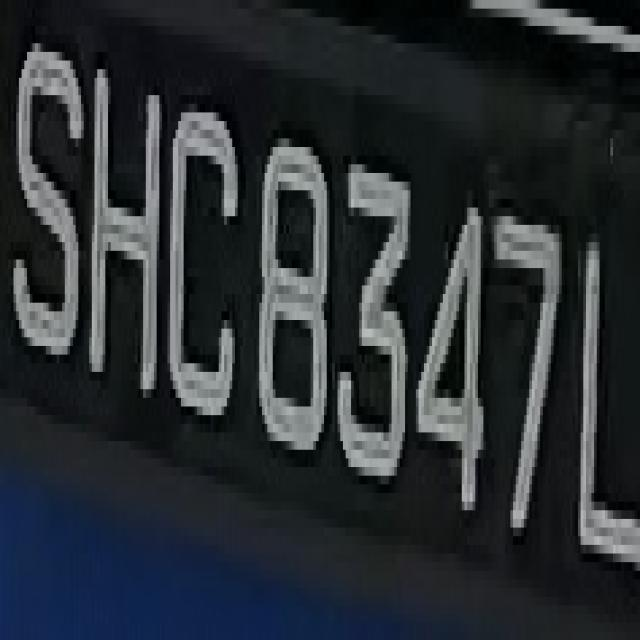3: (329, 104, 416, 493)
4: (418, 147, 497, 562)
7: (494, 156, 567, 554)
8: (249, 121, 332, 476)
C: (164, 69, 246, 441)
H: (89, 43, 159, 415)
L: (567, 190, 640, 580)
S: (8, 34, 87, 407)
